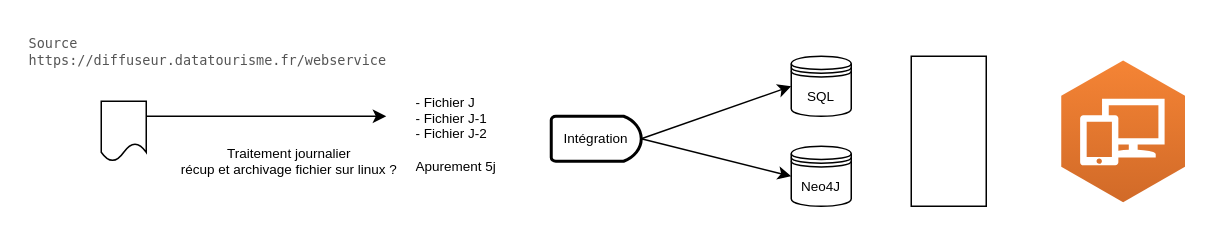
Image size: 1211x233. Some labels were removed from this diagram. The centre of each missing label's shape, as x and y in pixels:
"API" goes at (948,130).
"Json" goes at (123,130).
